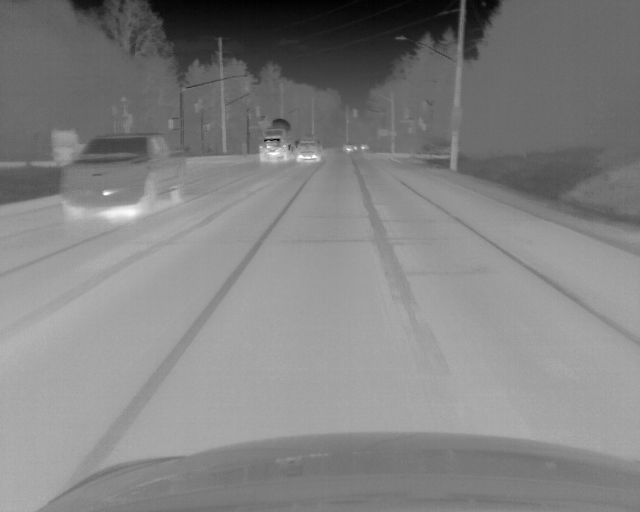car: (60, 132, 182, 213), (258, 119, 292, 164), (295, 138, 322, 164), (343, 144, 356, 154), (359, 143, 369, 152)
